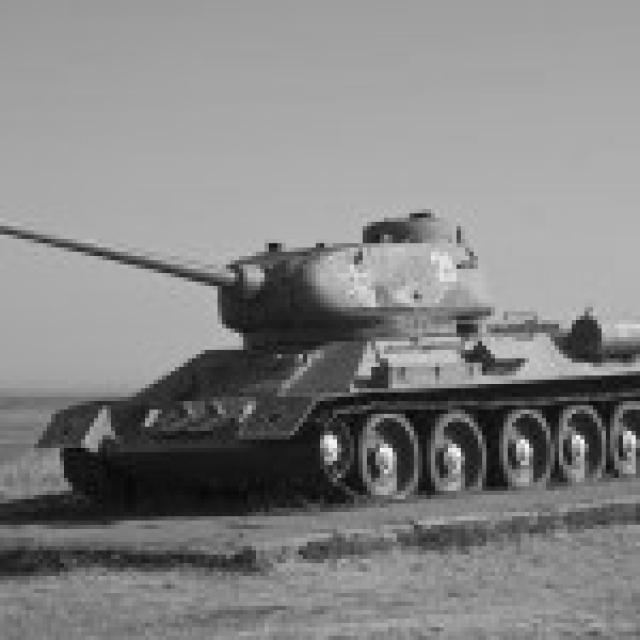Tank: (8, 208, 640, 516)
